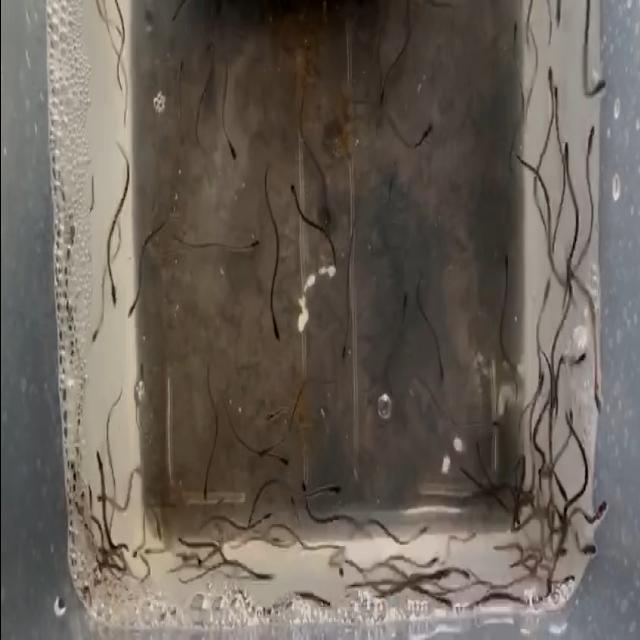inactive_glass_eel: (168, 524, 198, 564), (414, 112, 436, 160), (222, 138, 244, 178), (590, 382, 610, 426), (538, 68, 560, 108), (538, 280, 556, 327), (573, 119, 592, 163), (396, 288, 414, 334), (325, 554, 348, 590), (372, 70, 392, 110), (120, 521, 142, 557), (459, 510, 477, 554), (195, 472, 215, 510), (542, 1, 562, 38), (576, 536, 598, 568), (420, 548, 440, 581), (258, 506, 276, 542), (562, 405, 580, 441), (558, 134, 574, 174), (436, 359, 454, 394), (324, 475, 346, 503), (496, 401, 510, 445), (382, 161, 398, 199), (264, 396, 278, 438), (146, 496, 162, 532), (454, 549, 469, 587), (242, 224, 260, 255), (582, 77, 604, 102), (106, 276, 120, 315), (250, 430, 268, 460), (340, 330, 352, 374), (283, 486, 302, 513), (84, 324, 102, 352), (411, 509, 431, 534), (130, 289, 140, 337), (499, 248, 512, 280), (571, 348, 587, 374), (592, 500, 608, 526), (90, 462, 106, 487), (556, 558, 572, 583), (296, 470, 310, 498), (549, 89, 562, 117), (555, 539, 568, 563), (166, 10, 184, 27), (177, 59, 190, 82), (271, 453, 285, 469), (511, 22, 516, 44)
